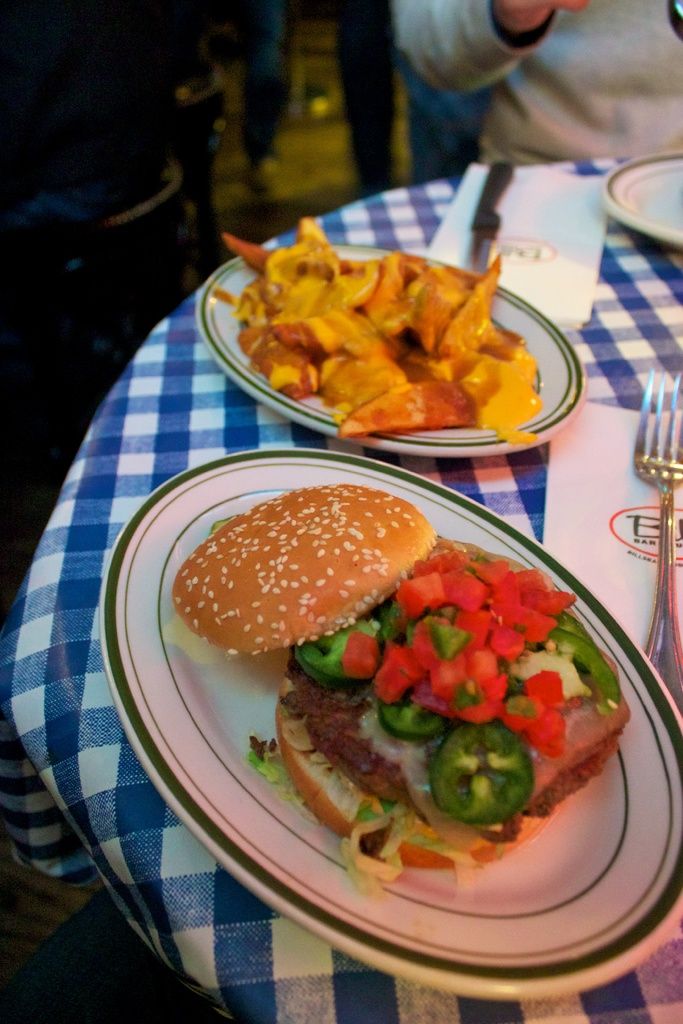Hamburger: (172, 483, 624, 896)
